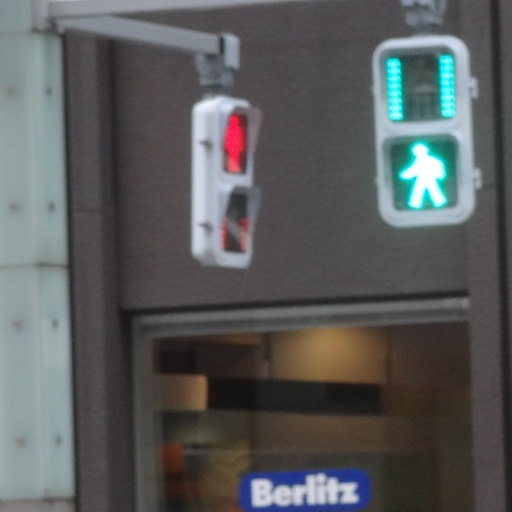Pedestrian_Signal_Blue: (370, 31, 475, 235)
Pedestrian_Signal_Red: (194, 90, 259, 269)
